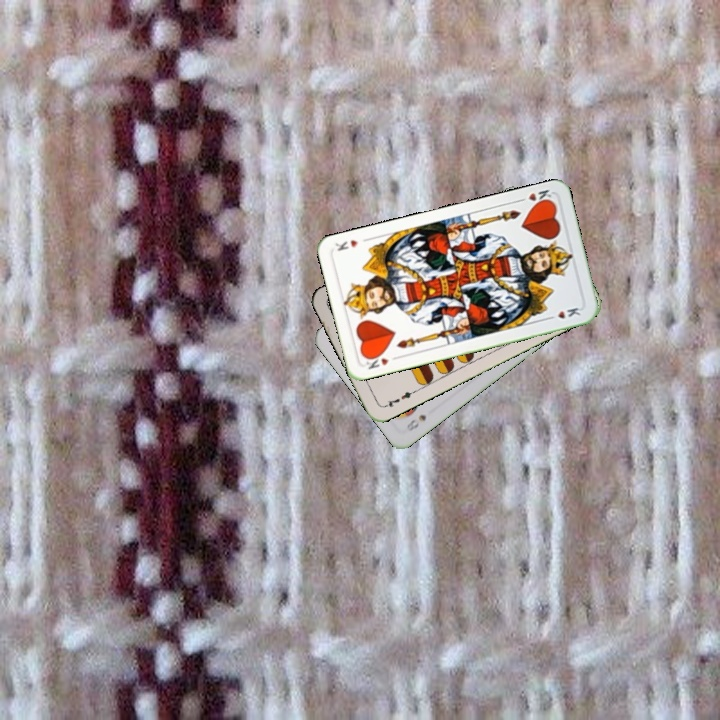E7: (380, 386, 418, 410)
HK: (514, 185, 554, 208), (362, 350, 391, 372)
S8: (403, 410, 429, 434)
